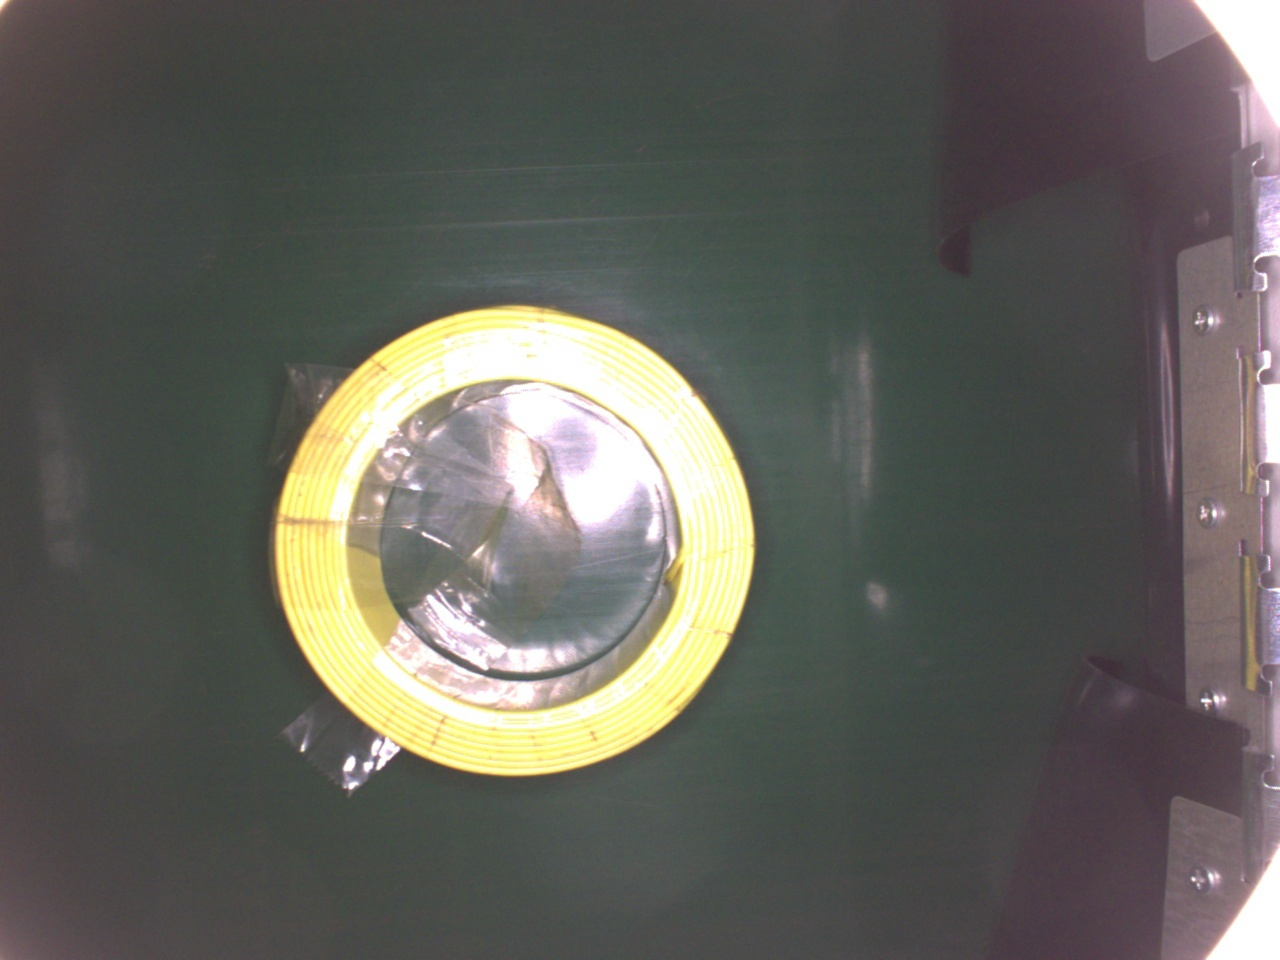yellow: (269, 292, 753, 786)
